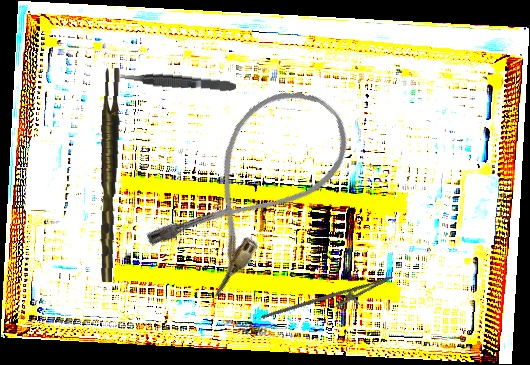Cannula: (138, 66, 368, 305)
Needle Holder: (260, 260, 398, 344)
Tissue Forceps: (90, 67, 127, 283), (117, 68, 237, 96)
